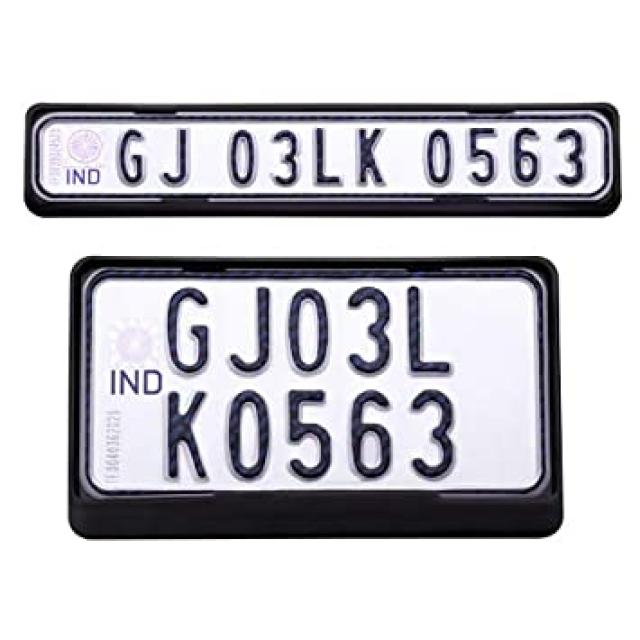plate: (82, 268, 551, 500), (28, 108, 616, 206)
